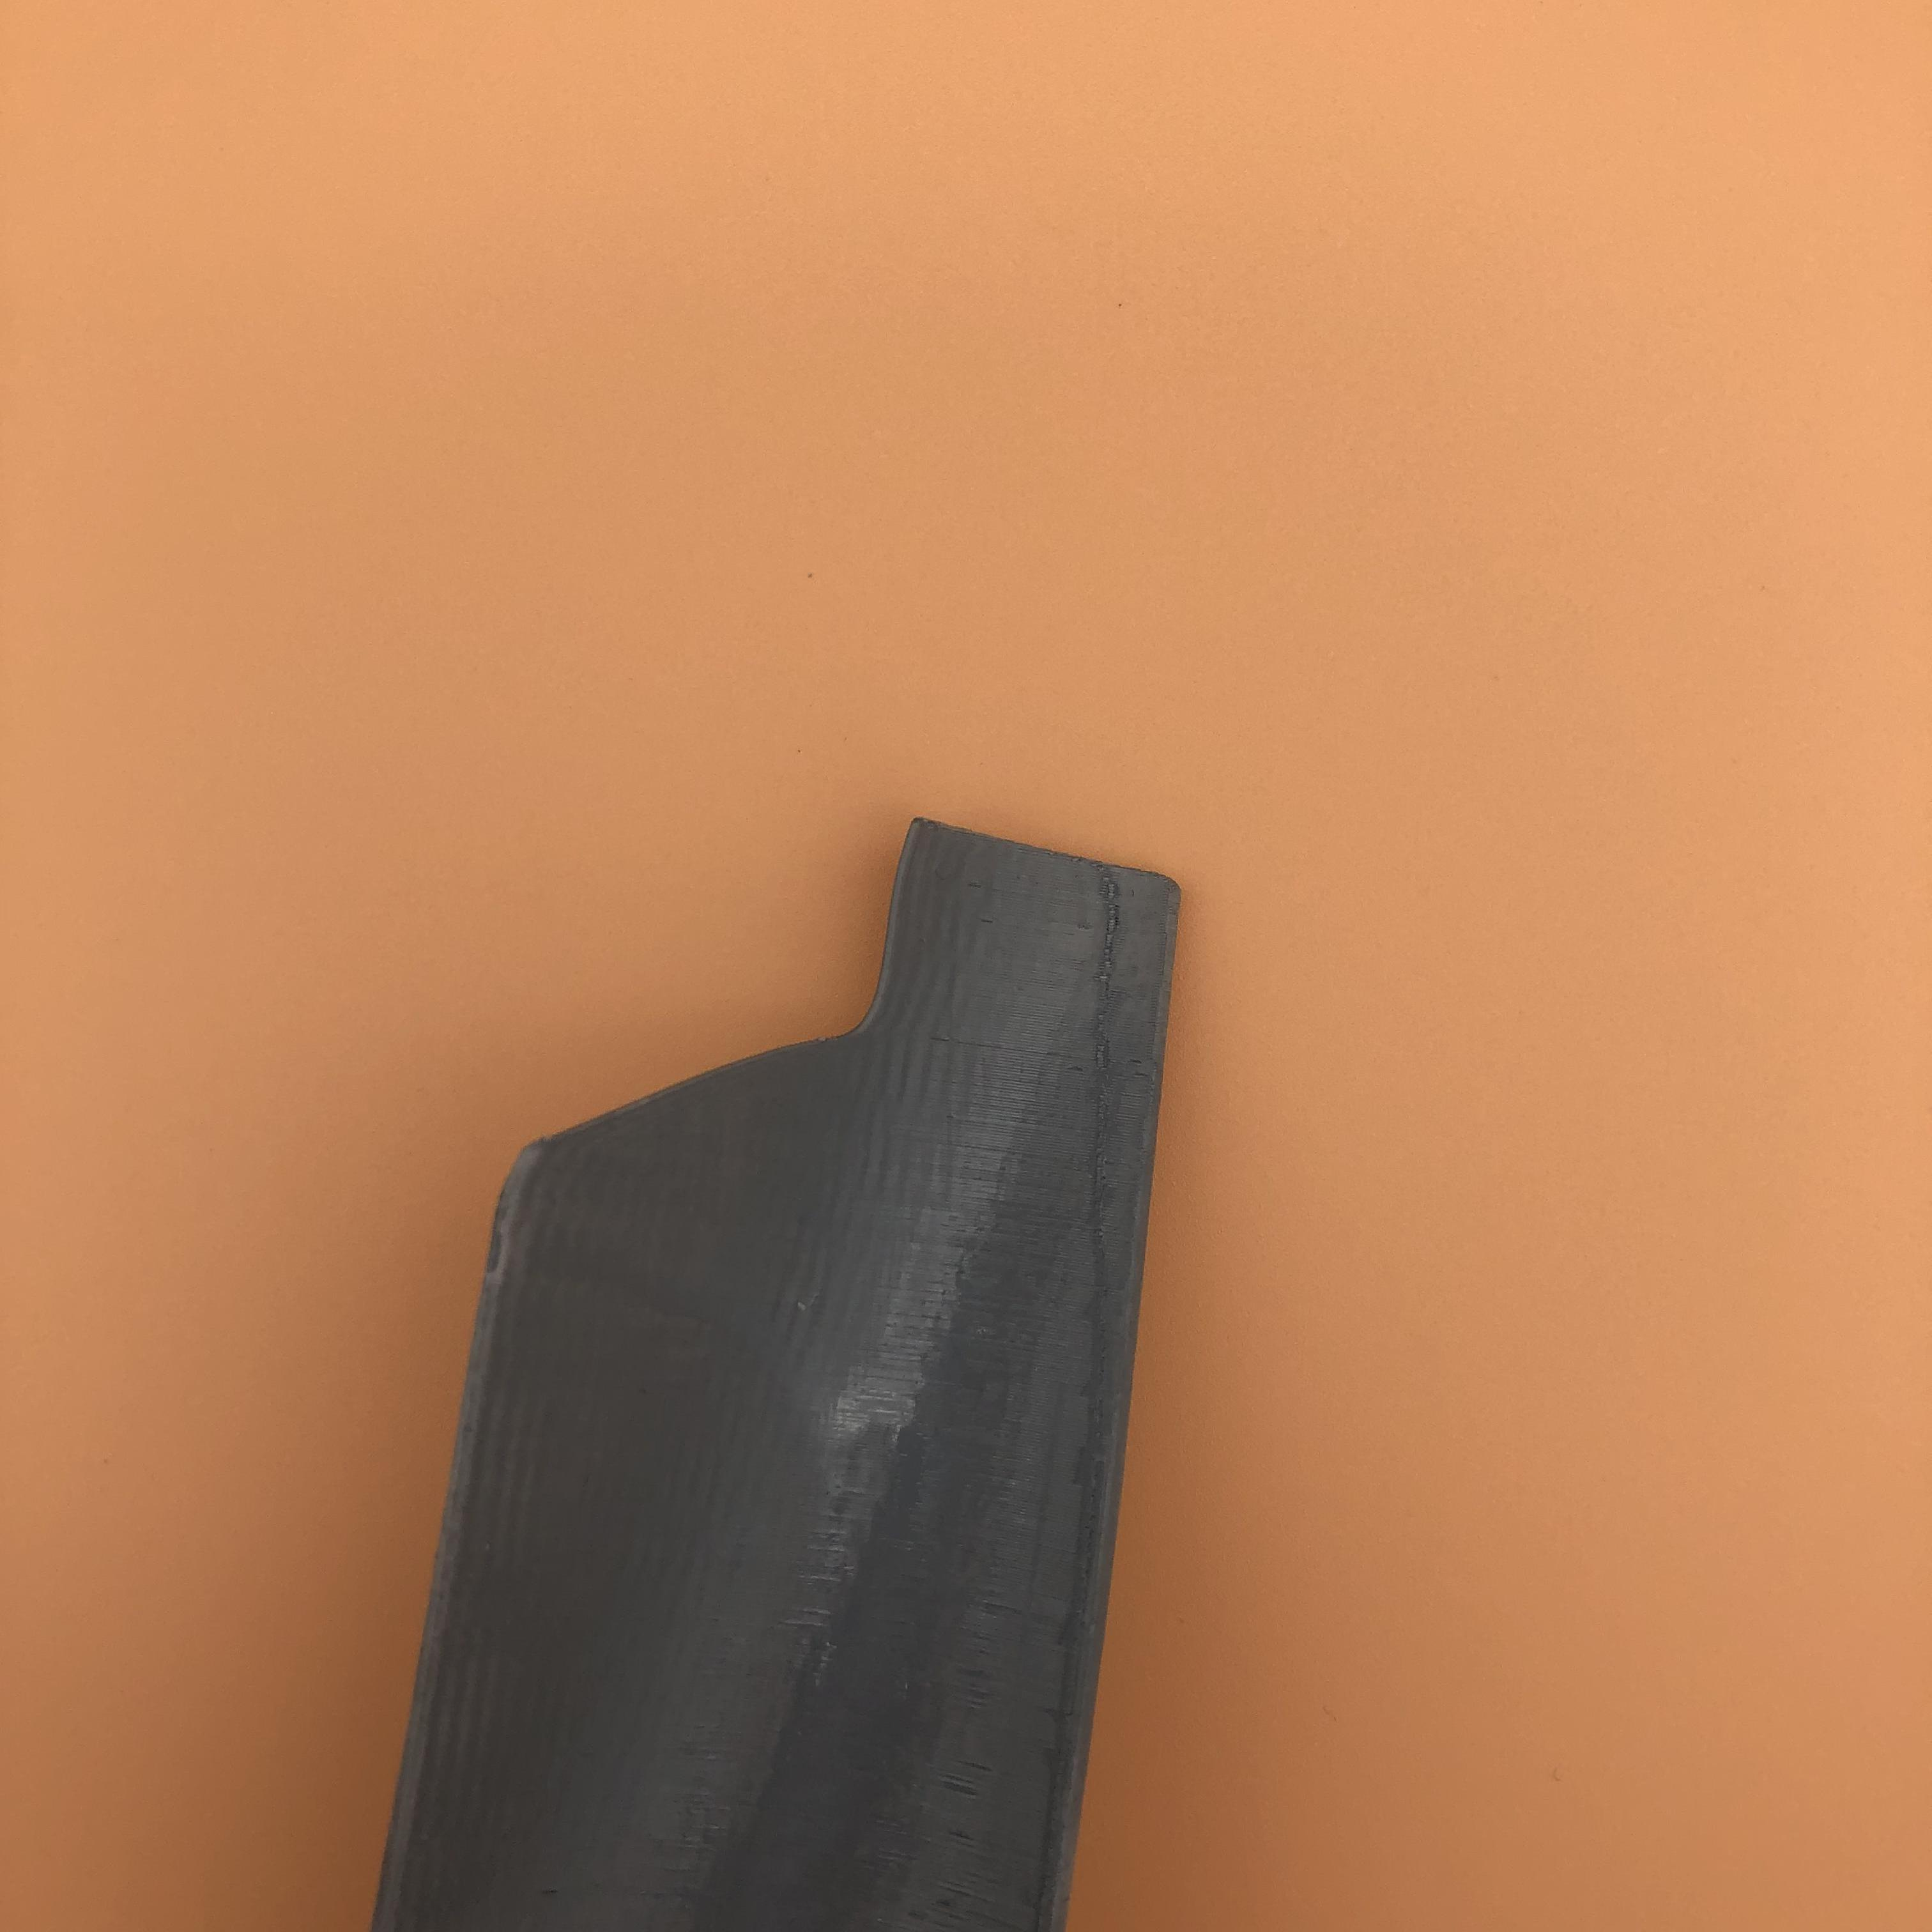fracture: (517, 865, 984, 1113)
